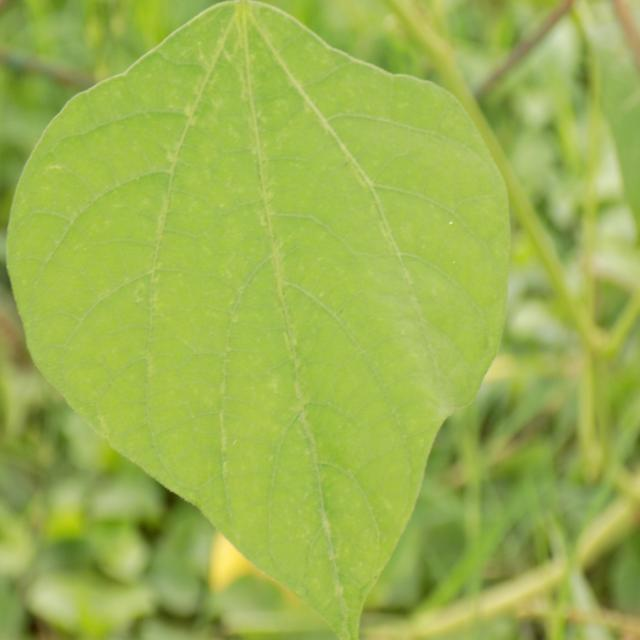Dolicos bean_healthy: (6, 0, 512, 640)
